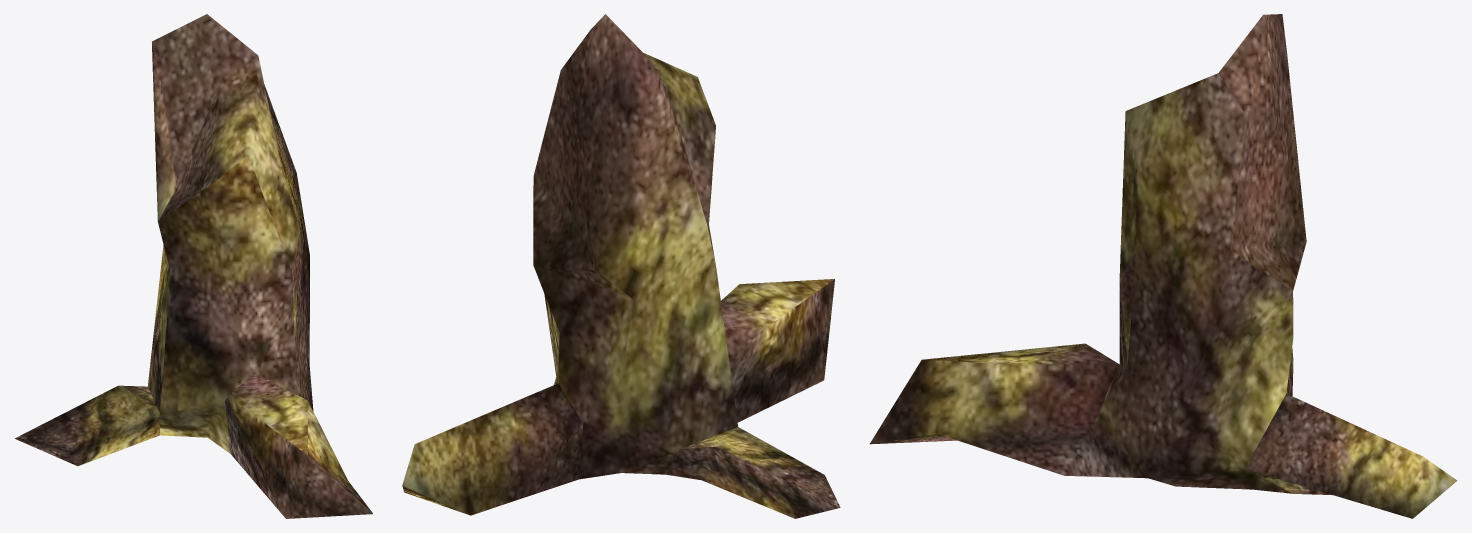
File: KM_ROCKROOT.glb
3 views of the same model, side by side, from view 1: azimuth 30°, elevation 25°; view 2: azimuth 150°, elevation 25°; view 3: azimuth 270°, elevation 25° (orthographic). The views are drawn at different scales.
Visible parts, largest first — view 1: Mesh; view 2: Mesh; view 3: Mesh.
Part boxes in pixels (x1,y1,x2,y2): Mesh: (15, 14, 372, 518); Mesh: (402, 14, 840, 518); Mesh: (870, 14, 1457, 518).
Size of the model in its own units: 0.3197 by 0.4096 by 0.4665.
1 material, 1 textured.
